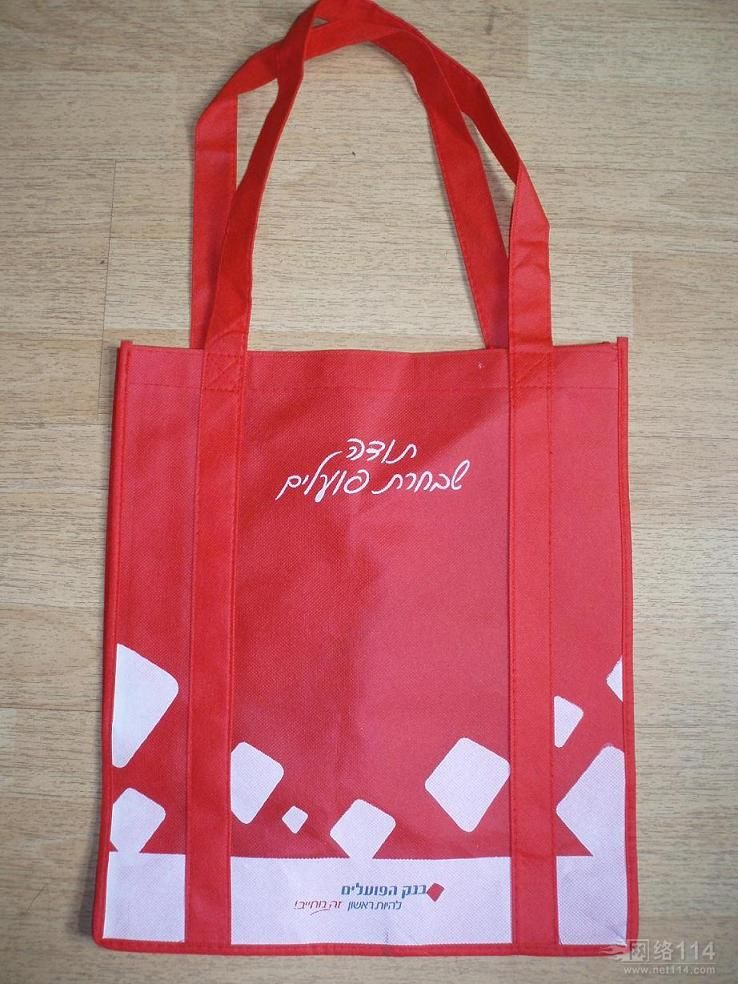flexible: (90, 1, 645, 961)
